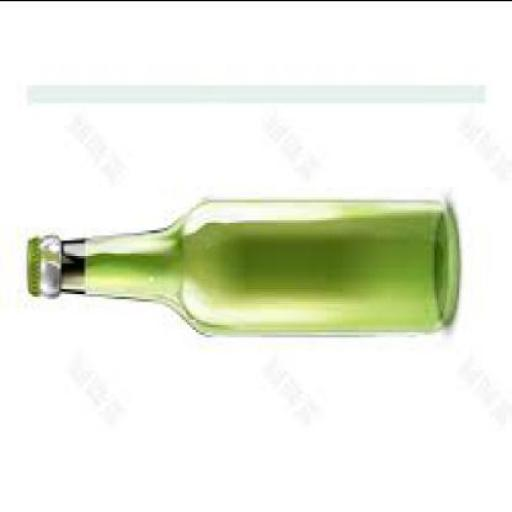glass: (38, 204, 459, 342)
metal: (24, 240, 39, 298)
